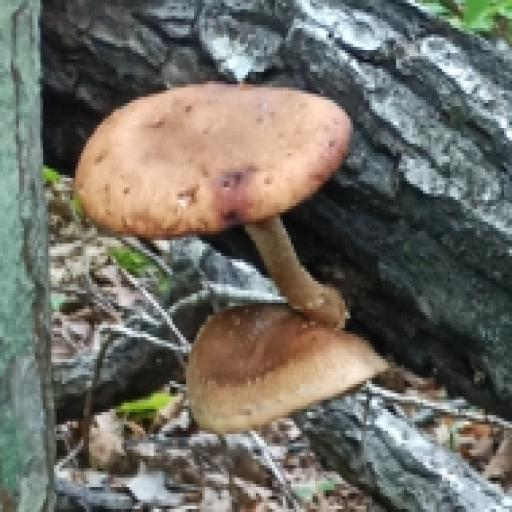Shiitake Mushroom: (76, 69, 396, 439)
